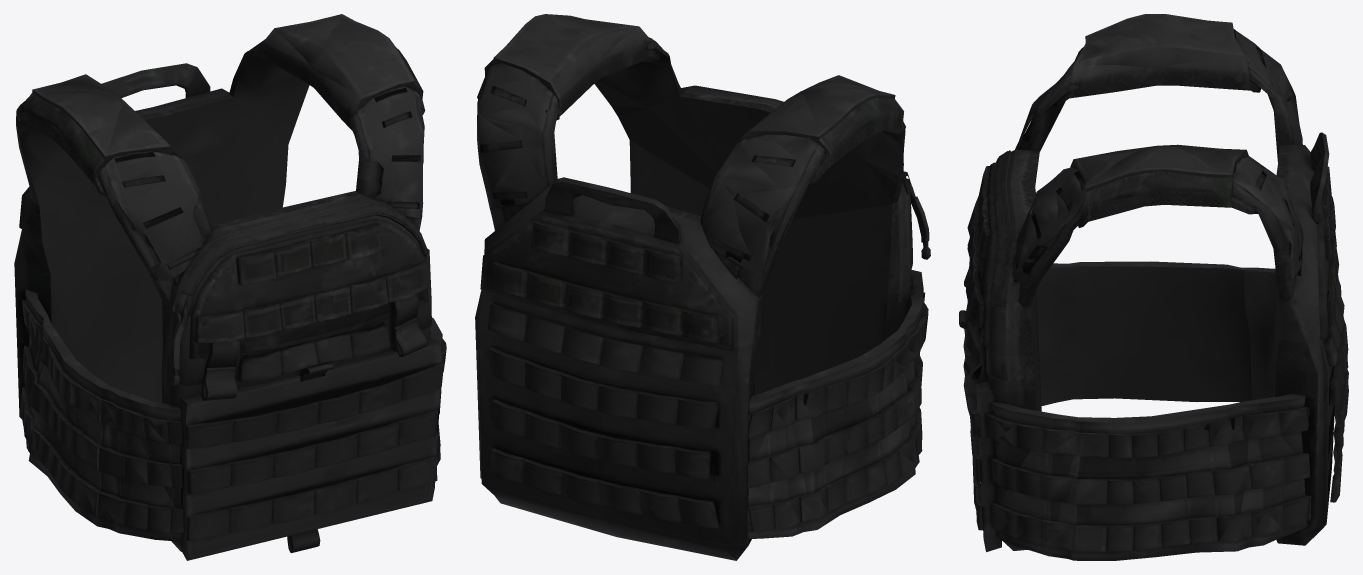
The model's file is vest.glb.
3 renders of one model, left to right at view 1: azimuth 30°, elevation 25°; view 2: azimuth 150°, elevation 25°; view 3: azimuth 270°, elevation 25°, orthographic. The views are drawn at different scales.
Visible parts, largest first — view 1: SBT-BANELT-BK; view 2: SBT-BANELT-BK; view 3: SBT-BANELT-BK.
Boxes of the visible parts, <box> form: SBT-BANELT-BK: <box>14,14,446,560</box>; SBT-BANELT-BK: <box>475,14,930,560</box>; SBT-BANELT-BK: <box>959,14,1348,560</box>.
Bounding box in the file's own units: 0.2604 × 0.3048 × 0.2537.
Materials: 1 (1 with a texture image).
